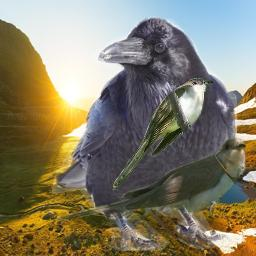Crow: (52, 14, 237, 251)
Cuckoo: (55, 136, 246, 224), (111, 77, 214, 192)
